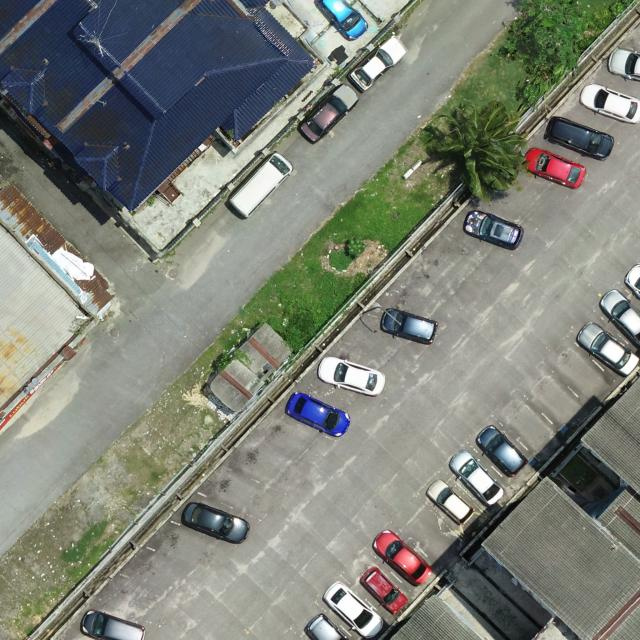tree: (424, 100, 527, 206), (496, 0, 589, 115)
